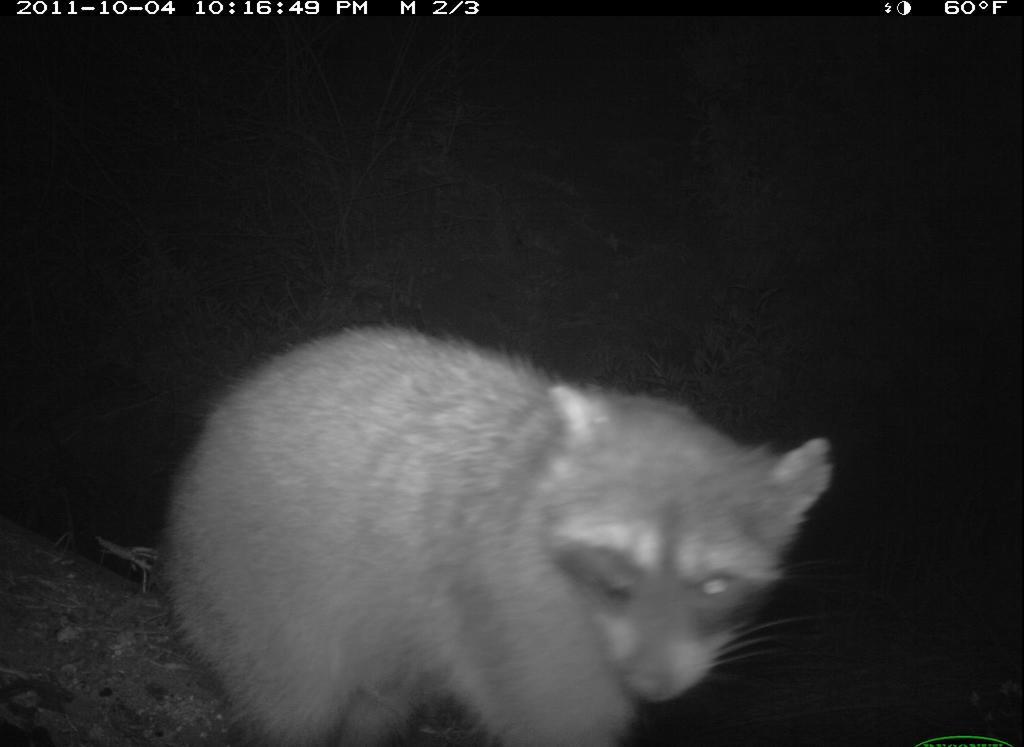raccoon: (145, 312, 856, 743)
